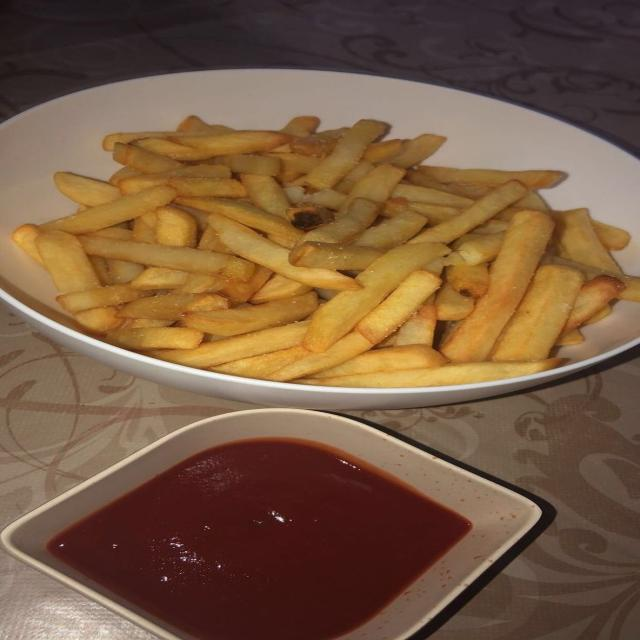potato fries: (14, 116, 639, 387), (442, 211, 553, 362)
